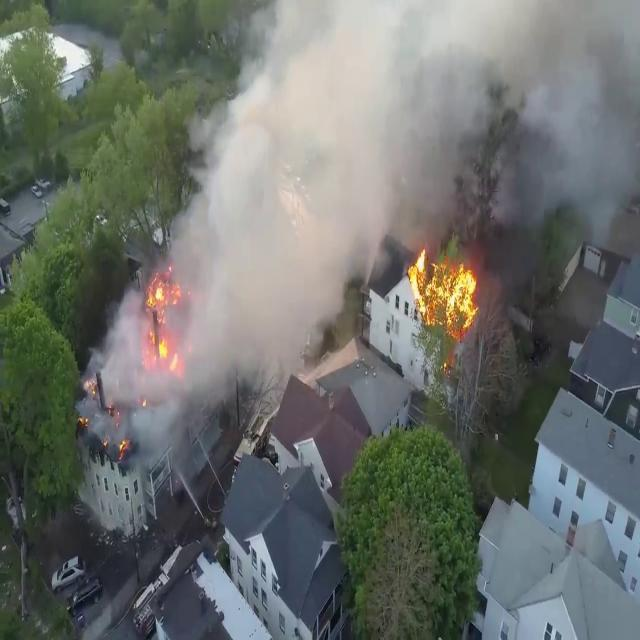Fire: (409, 242, 487, 342), (138, 274, 188, 364)
Smoke: (92, 1, 374, 400), (368, 0, 640, 266)
